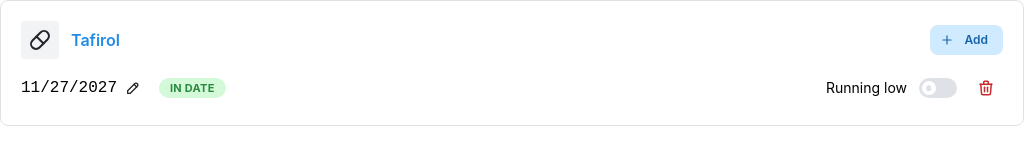
it: MedicationStockCard › saving an unchanged date sends nothing
Click the button named "Fix the date 11/27/2027". click: (133, 88)
box: [119,74,147,102]
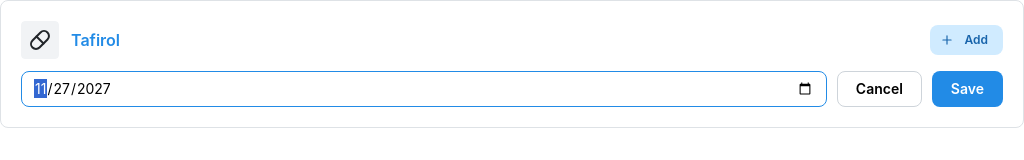
Click the button "Save". click: (967, 89)
box: [932,71,1003,107]
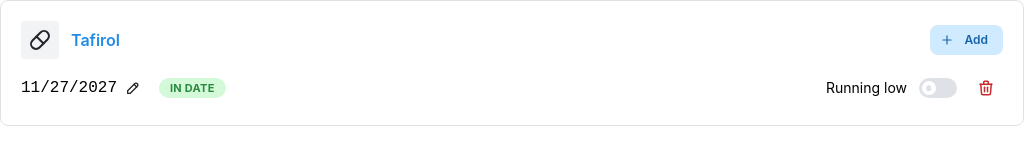
Expected: the date field labelled "New expiration date" is gone
